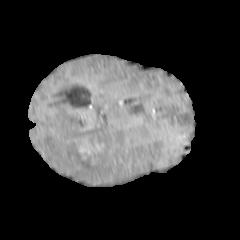glioma: (42, 109, 127, 181)
